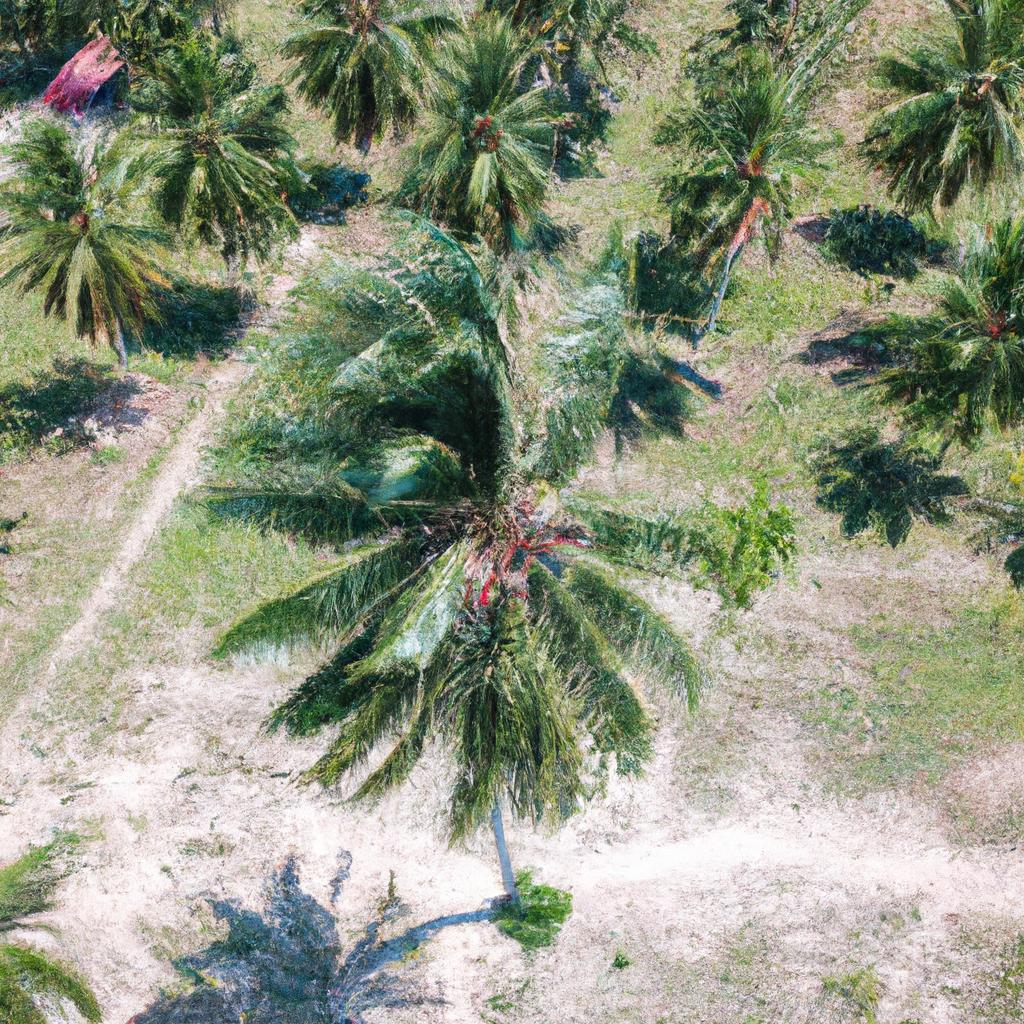coconut_tree: (217, 201, 811, 835), (6, 107, 176, 354), (139, 23, 314, 245), (405, 0, 563, 235), (627, 45, 825, 232)
